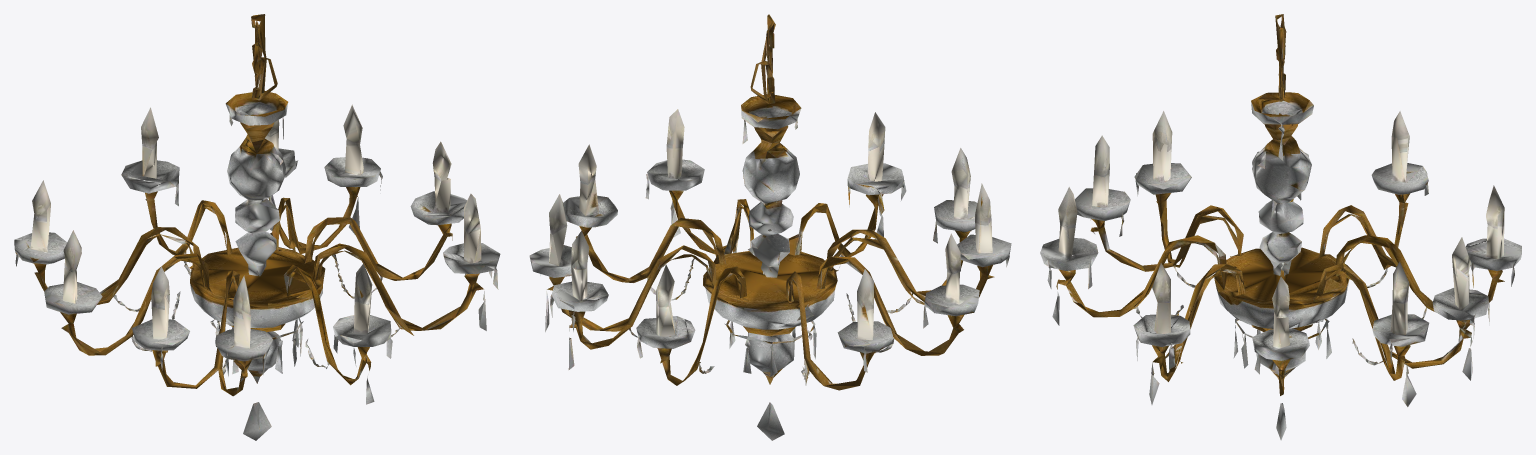
The model's file is chandelier.glb.
The picture shows the model from 3 angles, left to right: view 1: azimuth 30°, elevation 25°; view 2: azimuth 150°, elevation 25°; view 3: azimuth 270°, elevation 25°; orthographic projection.
Parts seen in each view (by area): view 1: chandelier; view 2: chandelier; view 3: chandelier.
Part boxes in pixels (x1,y1,x2,y2): chandelier: (14, 14, 500, 440); chandelier: (529, 14, 1011, 440); chandelier: (1040, 14, 1521, 440).
Size of the model in its own units: 1.51 by 1.47 by 1.5.
Materials: 1 (1 with a texture image).
